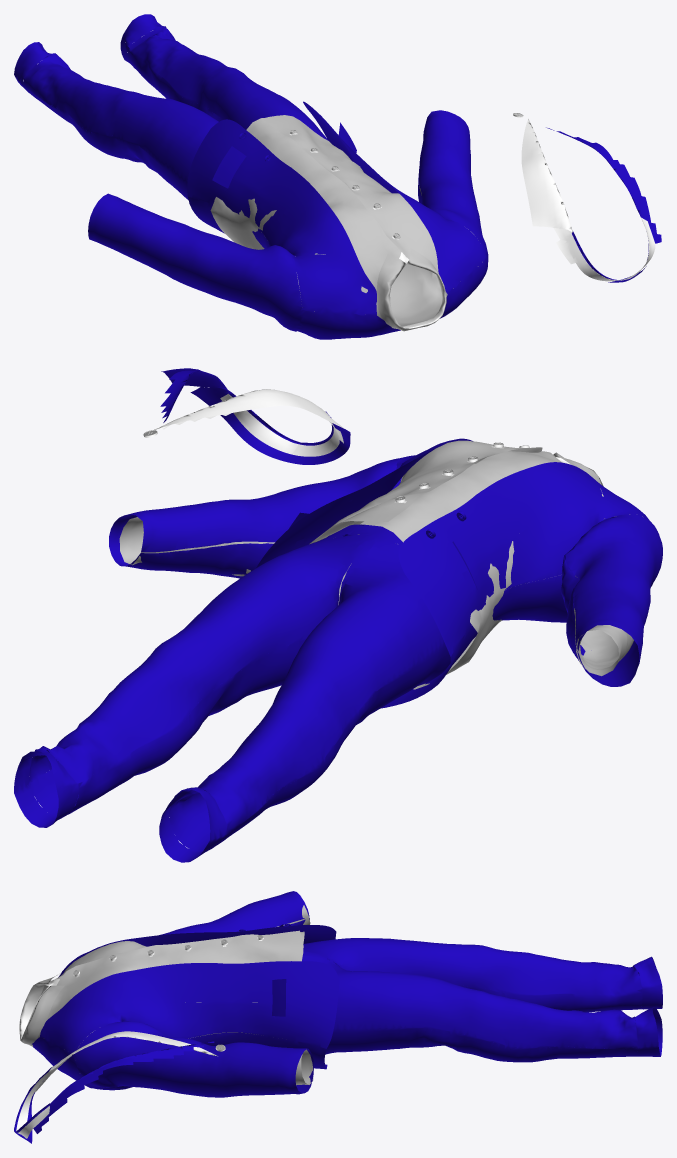
File: formal 2.glb
The picture shows the model from 3 angles, top to bottom: view 1: azimuth 30°, elevation 25°; view 2: azimuth 150°, elevation 25°; view 3: azimuth 270°, elevation 25°; orthographic projection. The views are drawn at different scales.
Parts seen in each view (by area): view 1: suit, pant, shirt, suit collar; view 2: pant, suit, shirt, suit collar; view 3: suit, pant, shirt, suit collar.
Part boxes in pixels (<box>): suit: <box>88,101,488,339</box>; pant: <box>14,14,328,199</box>; shirt: <box>210,115,482,331</box>; suit collar: <box>513,113,661,282</box>; pant: <box>14,524,450,862</box>; suit: <box>109,438,662,708</box>; shirt: <box>119,440,642,689</box>; suit collar: <box>142,368,350,464</box>; suit: <box>32,891,339,1097</box>; pant: <box>302,938,662,1062</box>; shirt: <box>19,905,313,1085</box>; suit collar: <box>14,1031,225,1143</box>.
Size of the model in its own units: 71.59 by 19.88 by 93.
